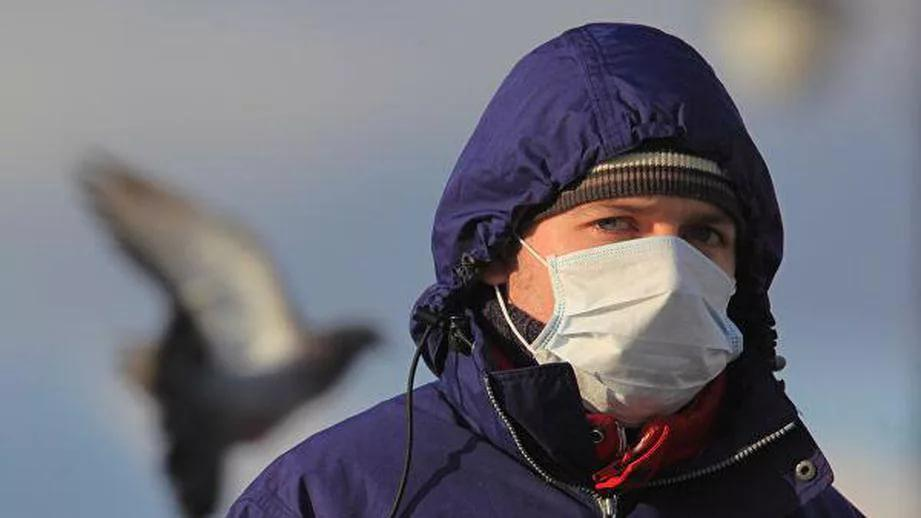mask: (514, 171, 749, 410)
